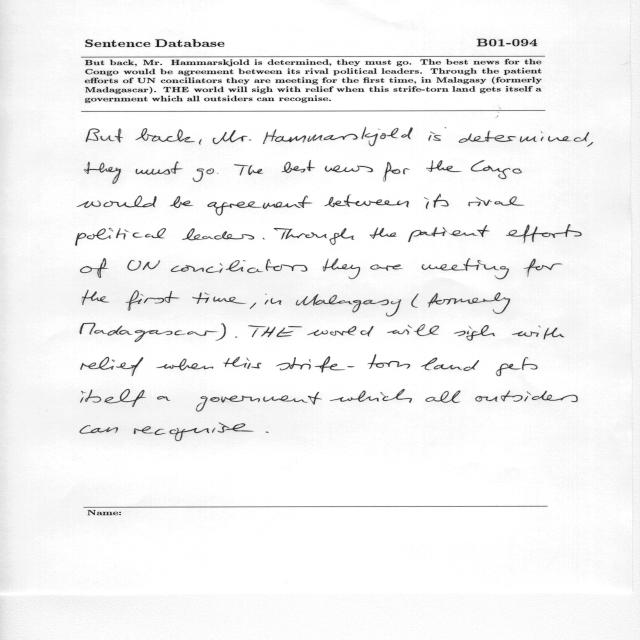word: (263, 128, 413, 147), (80, 323, 226, 342), (196, 392, 322, 412), (296, 294, 401, 317), (276, 355, 410, 373), (134, 423, 254, 441), (207, 196, 312, 216), (171, 259, 308, 273), (422, 259, 509, 280), (428, 292, 510, 314), (76, 228, 166, 246), (459, 131, 589, 143), (506, 225, 582, 244), (408, 225, 490, 242), (274, 228, 355, 245), (81, 357, 143, 376), (81, 389, 146, 407), (330, 389, 412, 403), (126, 290, 180, 311), (475, 391, 578, 402), (324, 195, 409, 208), (77, 195, 157, 208), (471, 160, 522, 179), (182, 229, 254, 241), (135, 128, 195, 142), (421, 357, 479, 371), (85, 162, 121, 184), (496, 357, 537, 376), (323, 259, 360, 280), (307, 326, 374, 337), (512, 326, 564, 340), (524, 259, 562, 277), (157, 359, 213, 371), (136, 161, 183, 175), (454, 325, 495, 341), (192, 292, 246, 304), (387, 324, 439, 336), (469, 197, 525, 207), (81, 258, 109, 278), (86, 128, 123, 143), (252, 326, 302, 337), (213, 130, 251, 144), (383, 162, 410, 181), (425, 390, 461, 403), (224, 357, 262, 369), (426, 160, 462, 172), (282, 160, 315, 173), (82, 290, 109, 305), (424, 194, 449, 209), (127, 260, 160, 271), (234, 164, 263, 176), (80, 425, 118, 434), (325, 166, 373, 173), (370, 227, 397, 239), (170, 196, 193, 208), (193, 169, 214, 182), (429, 127, 447, 141), (370, 264, 403, 271), (265, 294, 282, 305), (411, 294, 419, 308), (157, 396, 170, 401), (250, 303, 256, 309), (248, 325, 266, 327), (587, 142, 593, 147), (199, 139, 202, 145), (262, 238, 265, 240), (266, 431, 269, 433), (235, 336, 237, 338), (217, 173, 218, 174)
